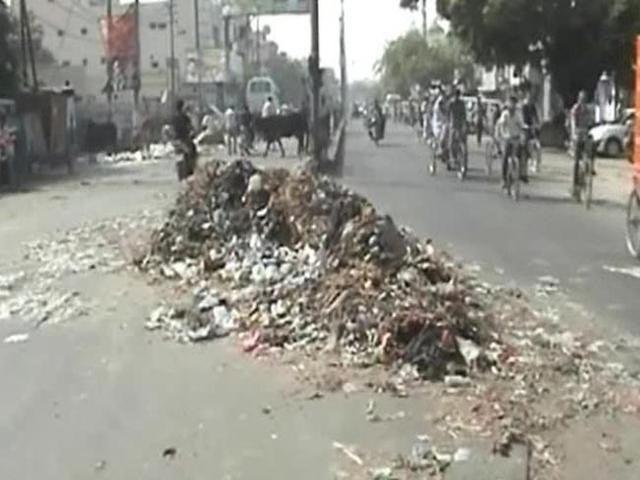garbage: (192, 180, 384, 344)
